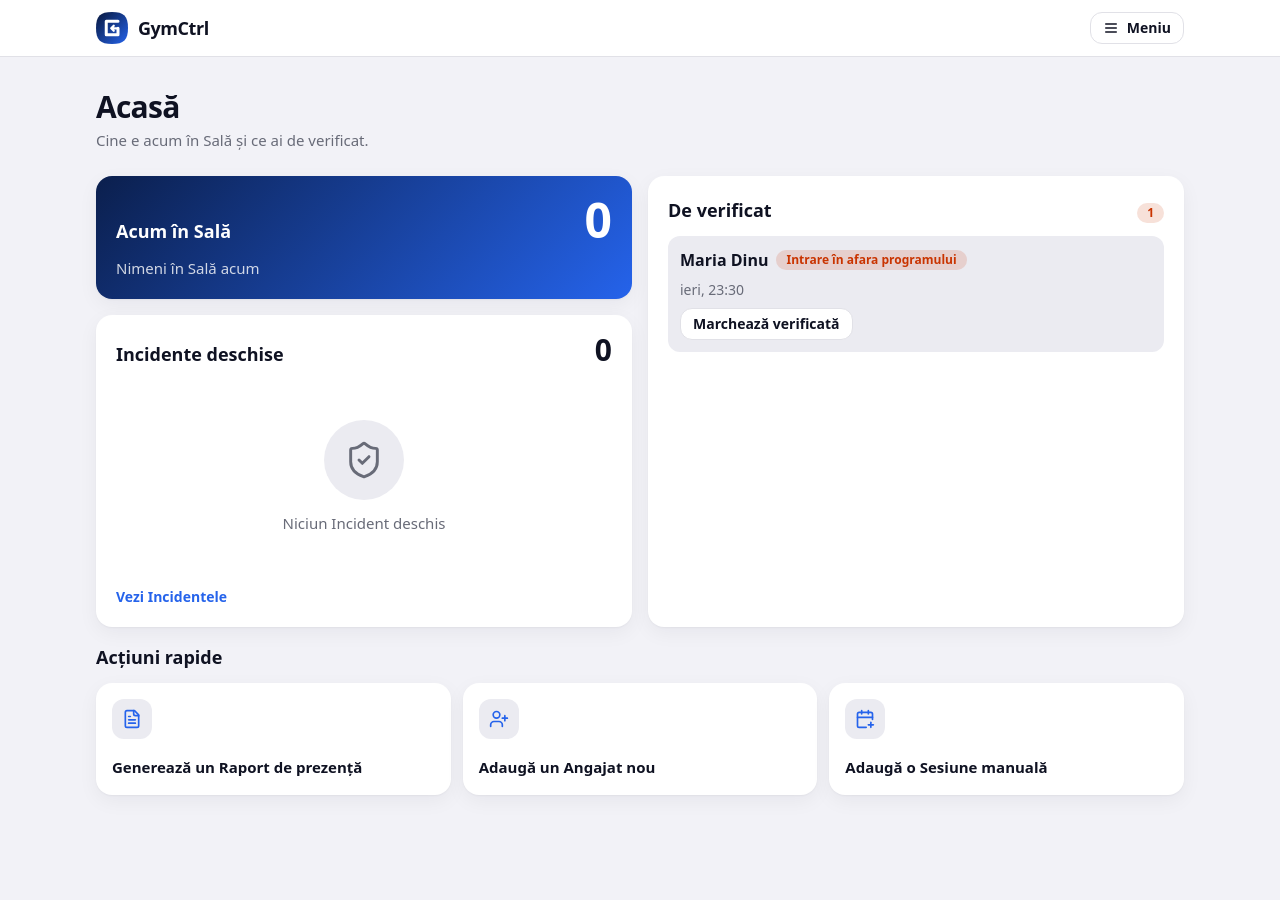
pagina de gestiune (Acasă) › rezolvă o Anomalie direct din plăcuță
Click the button "Marchează verificată" at (766, 324), box [680,308,852,340]
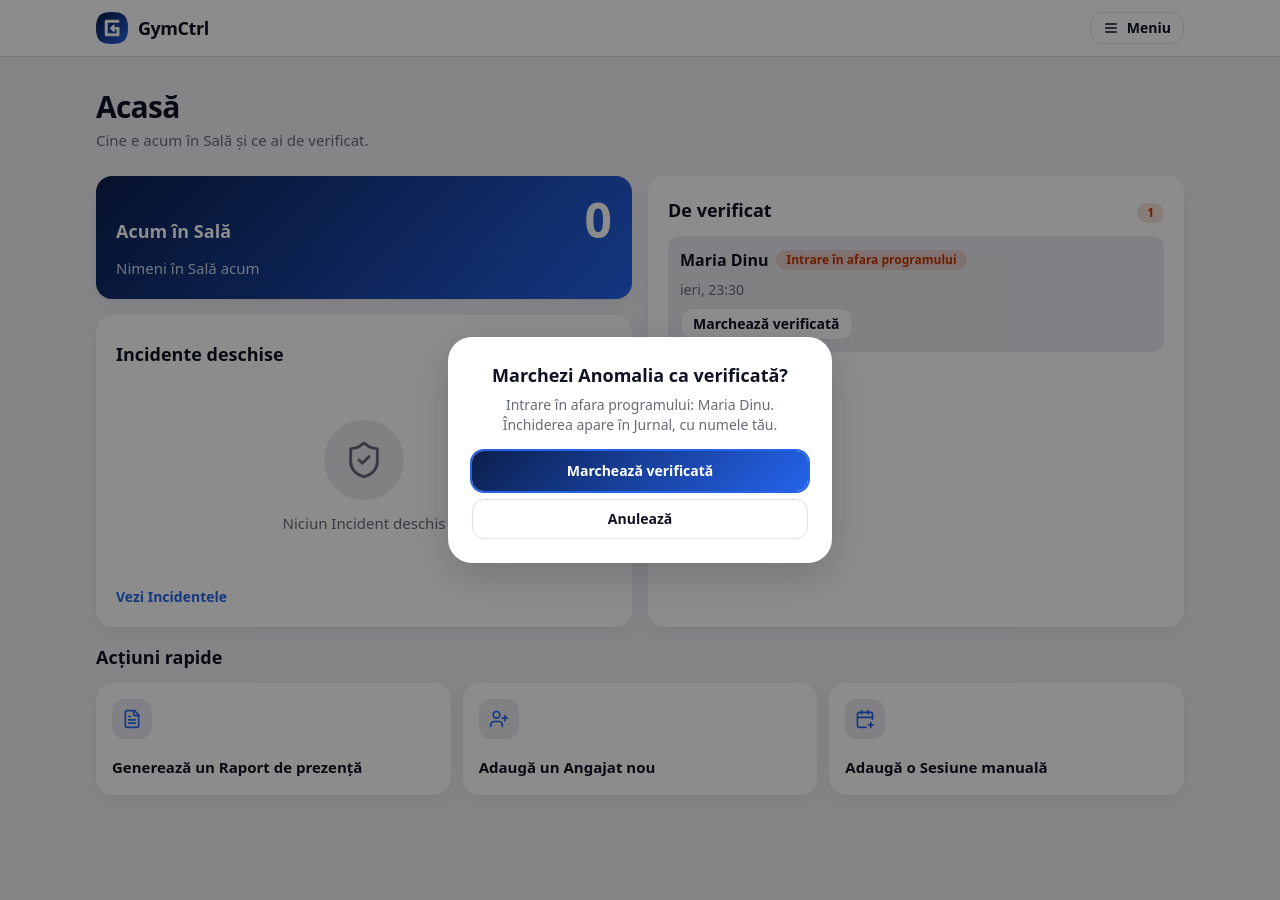
Click the button "Marchează verificată" at (640, 471), box [472,451,808,491]
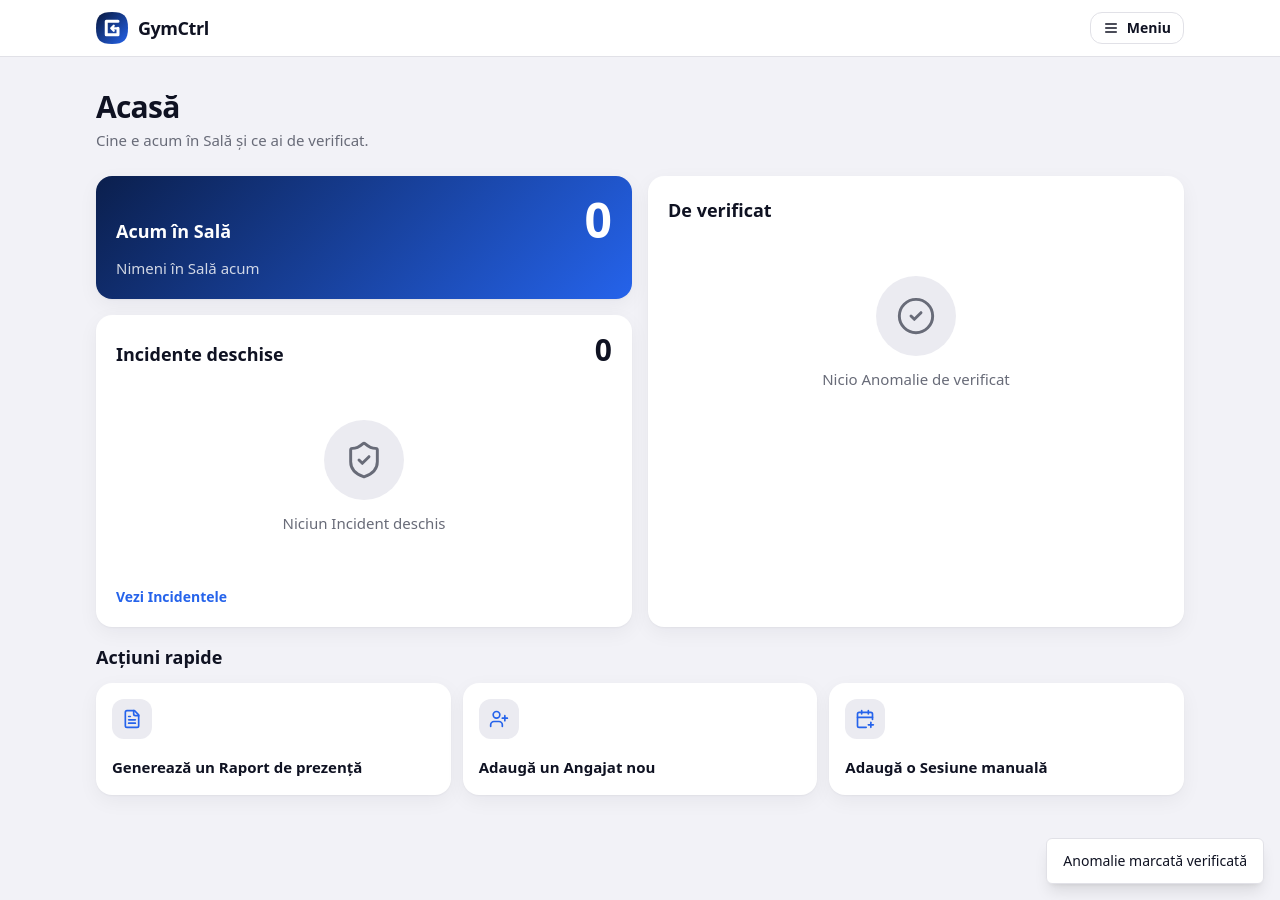
Expected: the text "Nicio Anomalie de verificat" is shown, [822,368,1010,390]
